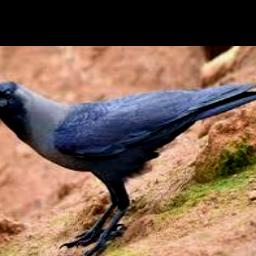Crow: (0, 80, 256, 256)
